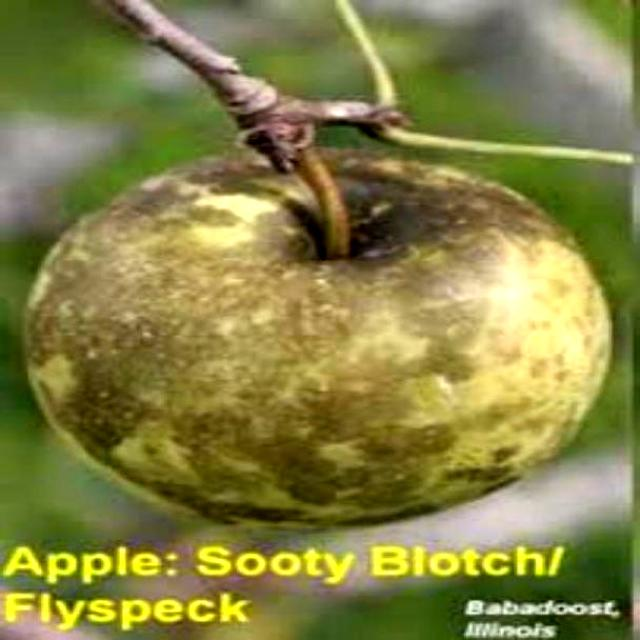BLOTCH: (22, 123, 613, 519)
